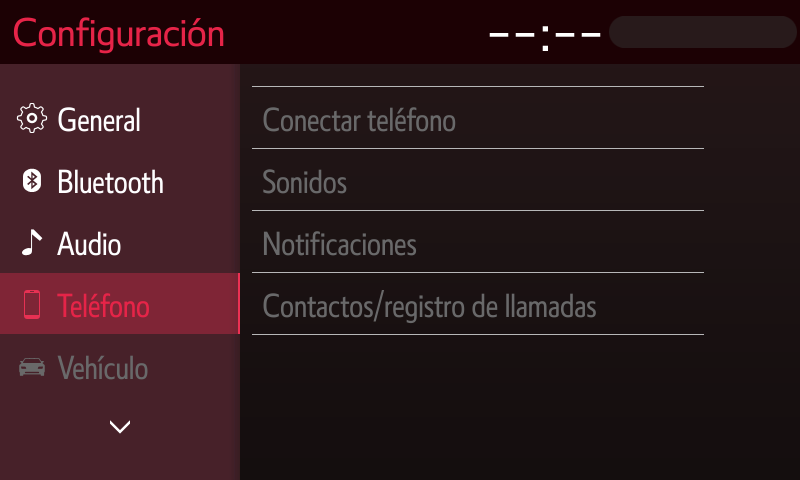touchPart: (11, 98, 169, 143), (14, 159, 171, 204), (12, 225, 143, 262), (102, 411, 141, 440)
untouchPart: (246, 204, 706, 281), (249, 81, 709, 155), (247, 143, 707, 214), (249, 269, 703, 340), (462, 7, 796, 54), (3, 271, 242, 334), (13, 9, 232, 54), (21, 350, 152, 383)
